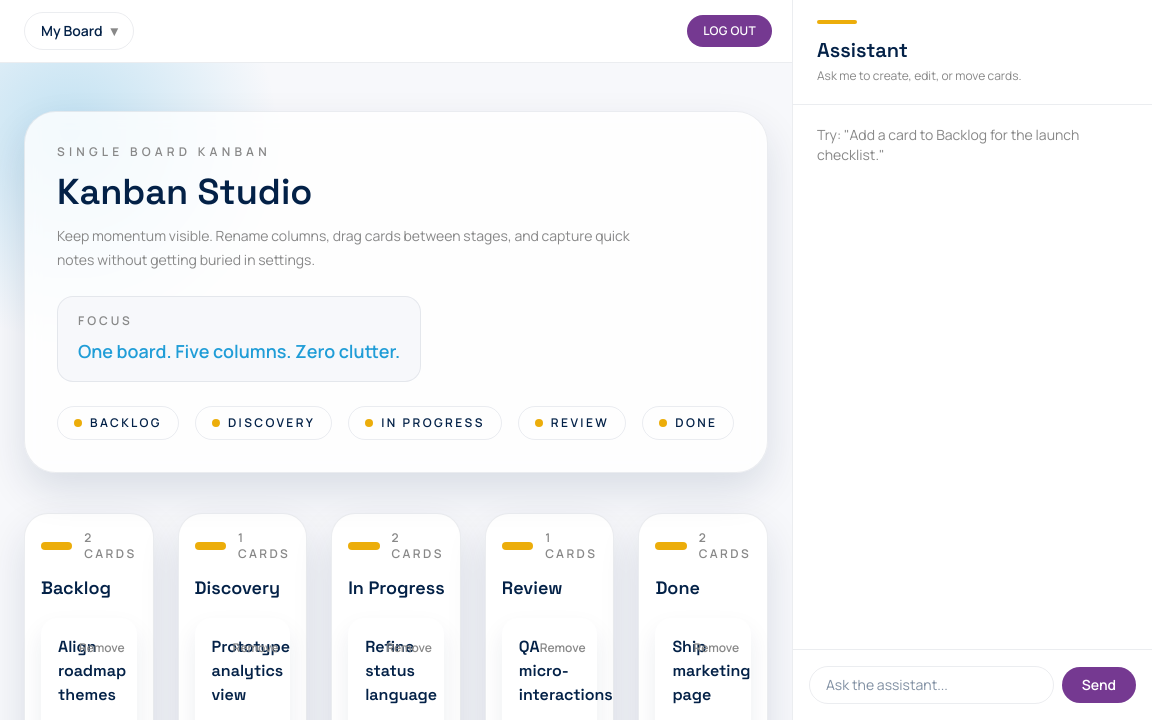
it: Workspace › deletes the active project and switches to the remaining one
The image size is (1152, 720).
What coordinates should you click on to do the following:
click the button with aria-label "switch project"
I would click on:
 (79, 31)
Its box is [24,12,134,50].
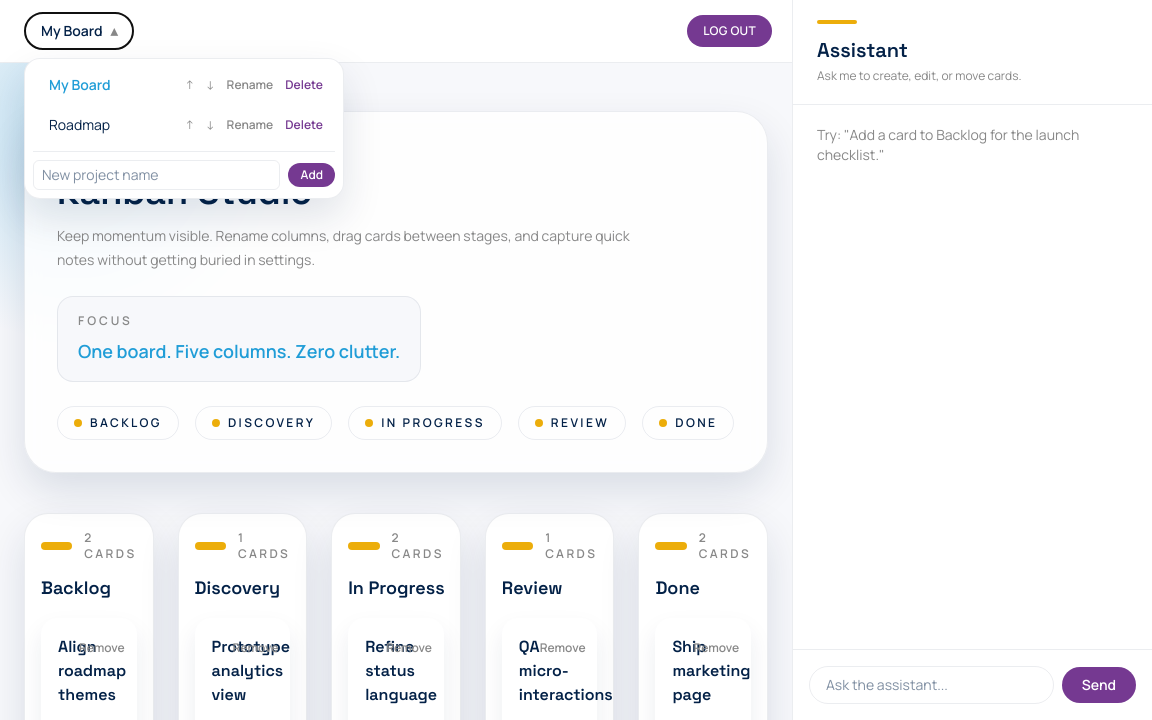
What coordinates should you click on to do the following:
click the button with aria-label "delete my board"
I would click on:
 (304, 85)
Its box is [281,77,327,93].
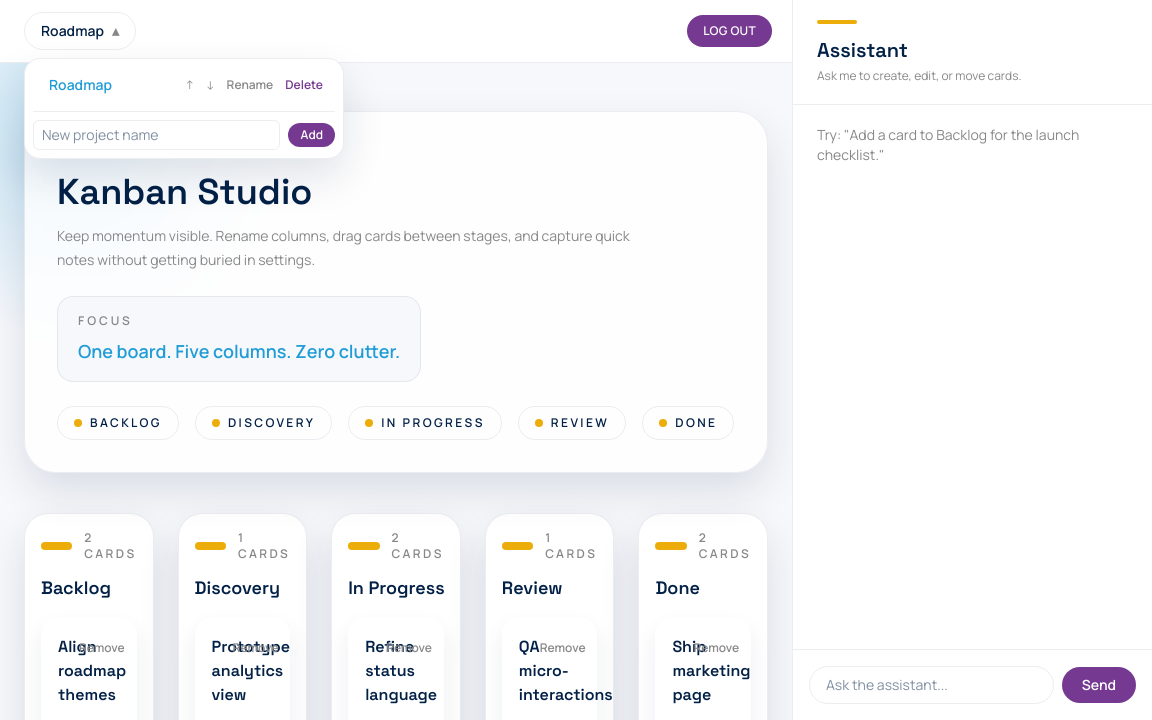
Expected: the button with aria-label "switch project" shows "Roadmap", [24,12,136,50]
